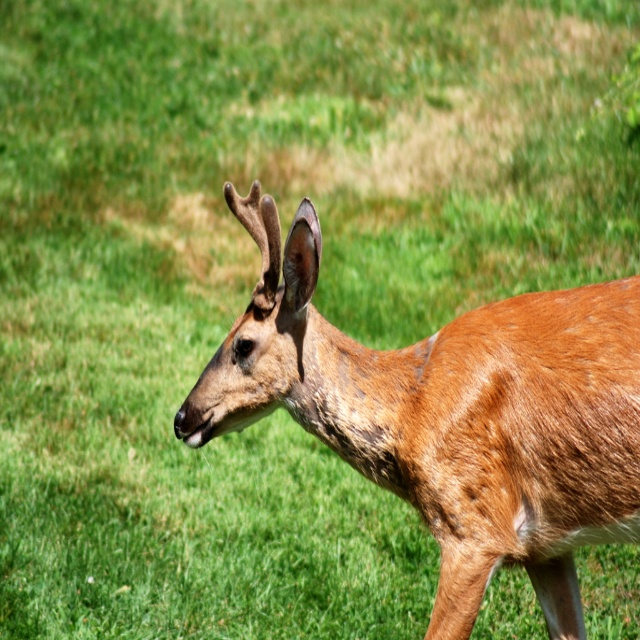Deer: (172, 182, 640, 639)
